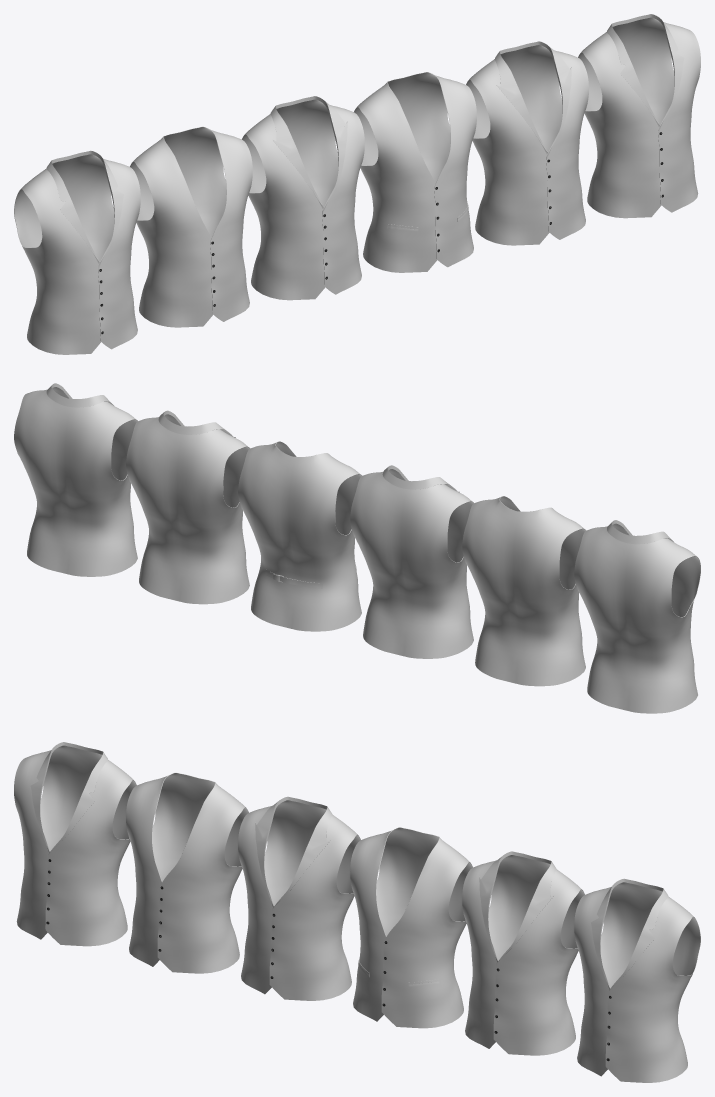
The model's file is CarlosSA_Waistcoat_SB.fbx.
3 renders of one model, top to bottom at view 1: azimuth 30°, elevation 25°; view 2: azimuth 150°, elevation 25°; view 3: azimuth 330°, elevation 25°, orthographic.
Parts seen in each view (by area): view 1: SM_CarlosSA_Waistcoat_FrontButtons_SB6Pointed, SM_CarlosSA_Waistcoat_FrontButtons_SB6EnglishCut, SM_CarlosSA_Waistcoat_FrontButtons_SB5EnglishCut, SM_CarlosSA_Waistcoat_FrontButtons_SB5Pointed, SM_CarlosSA_Waistcoat_FrontButtons_SB6NoLapel, SM_CarlosSA_Waistcoat_FrontButtons_SB5NoLapel; view 2: SM_CarlosSA_Waistcoat_FrontButtons_SB6Pointed, SM_CarlosSA_Waistcoat_FrontButtons_SB5EnglishCut, SM_CarlosSA_Waistcoat_FrontButtons_SB6EnglishCut, SM_CarlosSA_Waistcoat_FrontButtons_SB5Pointed, SM_CarlosSA_Waistcoat_FrontButtons_SB6NoLapel, SM_CarlosSA_Waistcoat_FrontButtons_SB5NoLapel; view 3: SM_CarlosSA_Waistcoat_FrontButtons_SB5Pointed, SM_CarlosSA_Waistcoat_FrontButtons_SB5EnglishCut, SM_CarlosSA_Waistcoat_FrontButtons_SB6EnglishCut, SM_CarlosSA_Waistcoat_FrontButtons_SB6Pointed, SM_CarlosSA_Waistcoat_FrontButtons_SB6NoLapel, SM_CarlosSA_Waistcoat_FrontButtons_SB5NoLapel.
Part boxes in pixels (box(x1,y1,x2,y2)): SM_CarlosSA_Waistcoat_FrontButtons_SB6Pointed: box(14, 150, 140, 354); SM_CarlosSA_Waistcoat_FrontButtons_SB6EnglishCut: box(242, 96, 364, 300); SM_CarlosSA_Waistcoat_FrontButtons_SB5EnglishCut: box(466, 41, 588, 245); SM_CarlosSA_Waistcoat_FrontButtons_SB5Pointed: box(578, 14, 700, 218); SM_CarlosSA_Waistcoat_FrontButtons_SB6NoLapel: box(130, 126, 252, 327); SM_CarlosSA_Waistcoat_FrontButtons_SB5NoLapel: box(354, 72, 476, 272); SM_CarlosSA_Waistcoat_FrontButtons_SB6Pointed: box(574, 520, 700, 713); SM_CarlosSA_Waistcoat_FrontButtons_SB5EnglishCut: box(126, 410, 249, 604); SM_CarlosSA_Waistcoat_FrontButtons_SB6EnglishCut: box(350, 465, 473, 658); SM_CarlosSA_Waistcoat_FrontButtons_SB5Pointed: box(14, 383, 137, 576); SM_CarlosSA_Waistcoat_FrontButtons_SB6NoLapel: box(462, 496, 585, 686); SM_CarlosSA_Waistcoat_FrontButtons_SB5NoLapel: box(238, 441, 361, 631); SM_CarlosSA_Waistcoat_FrontButtons_SB5Pointed: box(574, 878, 700, 1082); SM_CarlosSA_Waistcoat_FrontButtons_SB5EnglishCut: box(462, 851, 584, 1055); SM_CarlosSA_Waistcoat_FrontButtons_SB6EnglishCut: box(238, 796, 360, 1000); SM_CarlosSA_Waistcoat_FrontButtons_SB6Pointed: box(14, 742, 136, 946); SM_CarlosSA_Waistcoat_FrontButtons_SB6NoLapel: box(126, 772, 248, 973); SM_CarlosSA_Waistcoat_FrontButtons_SB5NoLapel: box(350, 827, 472, 1028).
Size of the model in its own units: 238 by 59.2 by 28.29.
